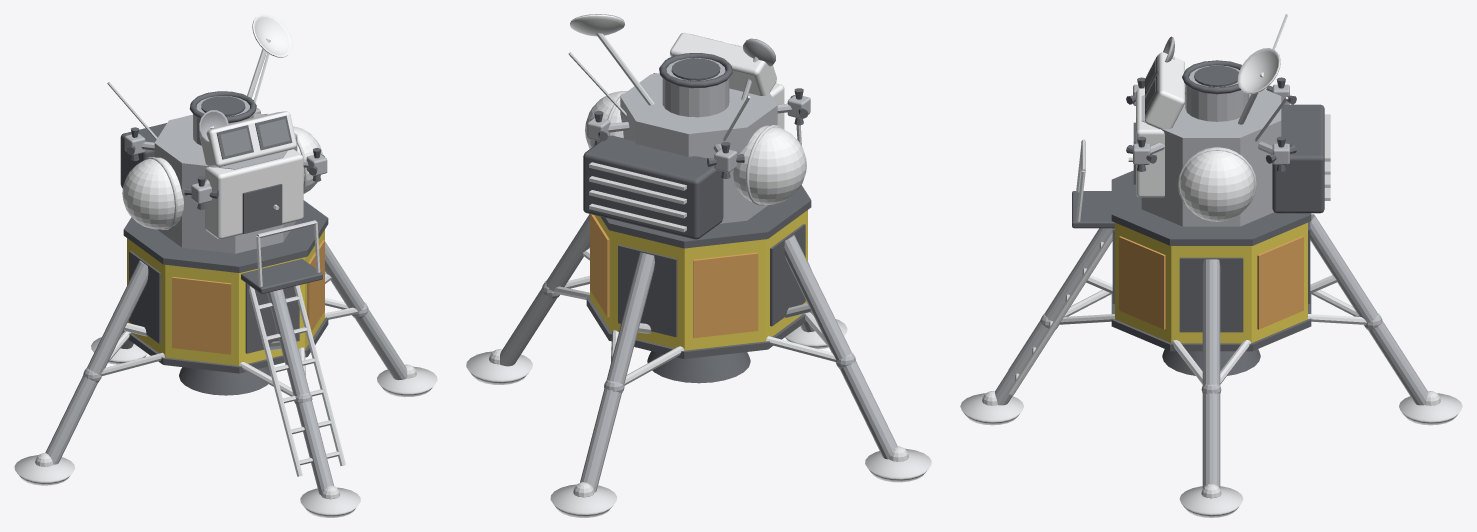
File: solar-system-and-astronauts-lunar-lander-f0099cd2__39249.glb
3 renders of one model, left to right at view 1: azimuth 30°, elevation 25°; view 2: azimuth 150°, elevation 25°; view 3: azimuth 270°, elevation 25°, orthographic. The views are drawn at different scales.
Parts seen in each view (by area): view 1: lunar-lander; view 2: lunar-lander; view 3: lunar-lander.
Boxes of the visible parts, x1,y1,x2,y2 form: lunar-lander: (14,14,437,517); lunar-lander: (466,14,931,517); lunar-lander: (960,14,1462,517).
Size of the model in its own units: 1.73 by 1.5 by 1.73.
